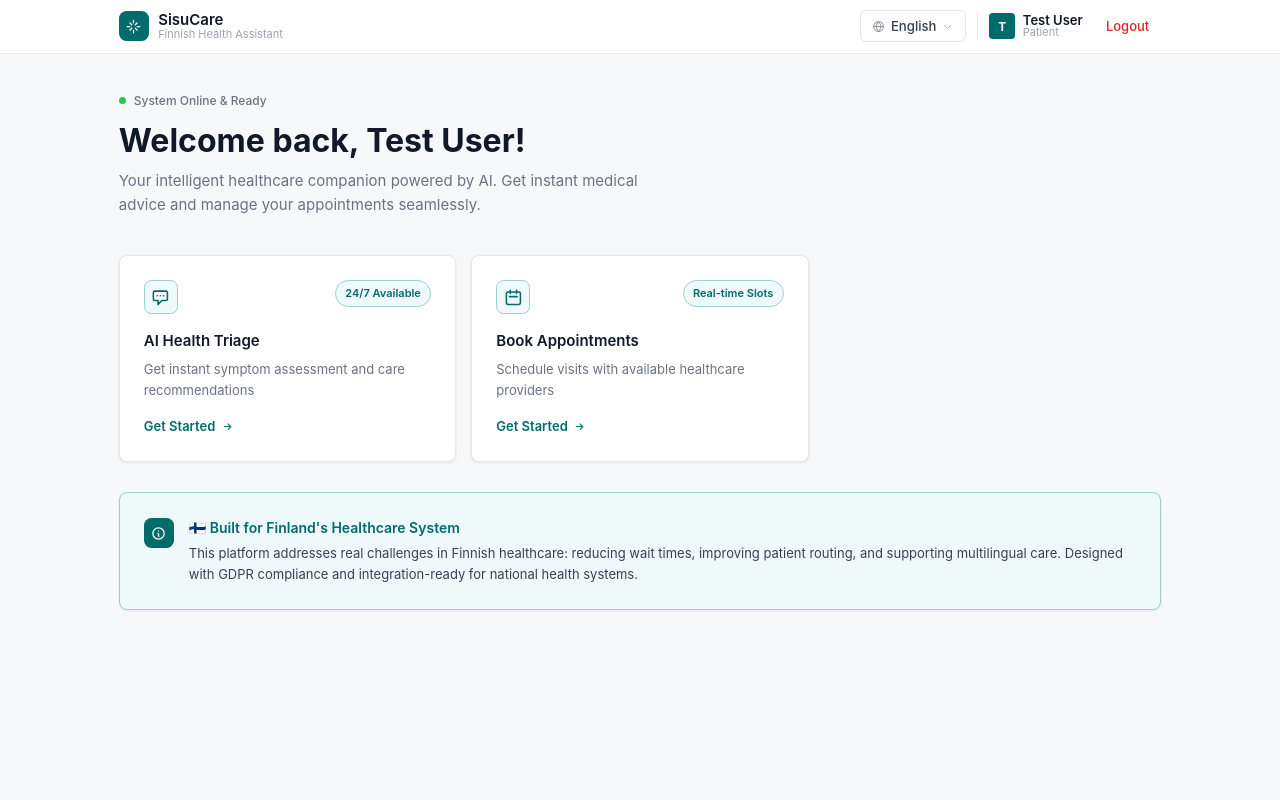
Scenario: Home page › updates hero copy when switching to Swedish
The image size is (1280, 800).
Click the button with aria-label "Language" at (913, 26), box [860,10,966,42]
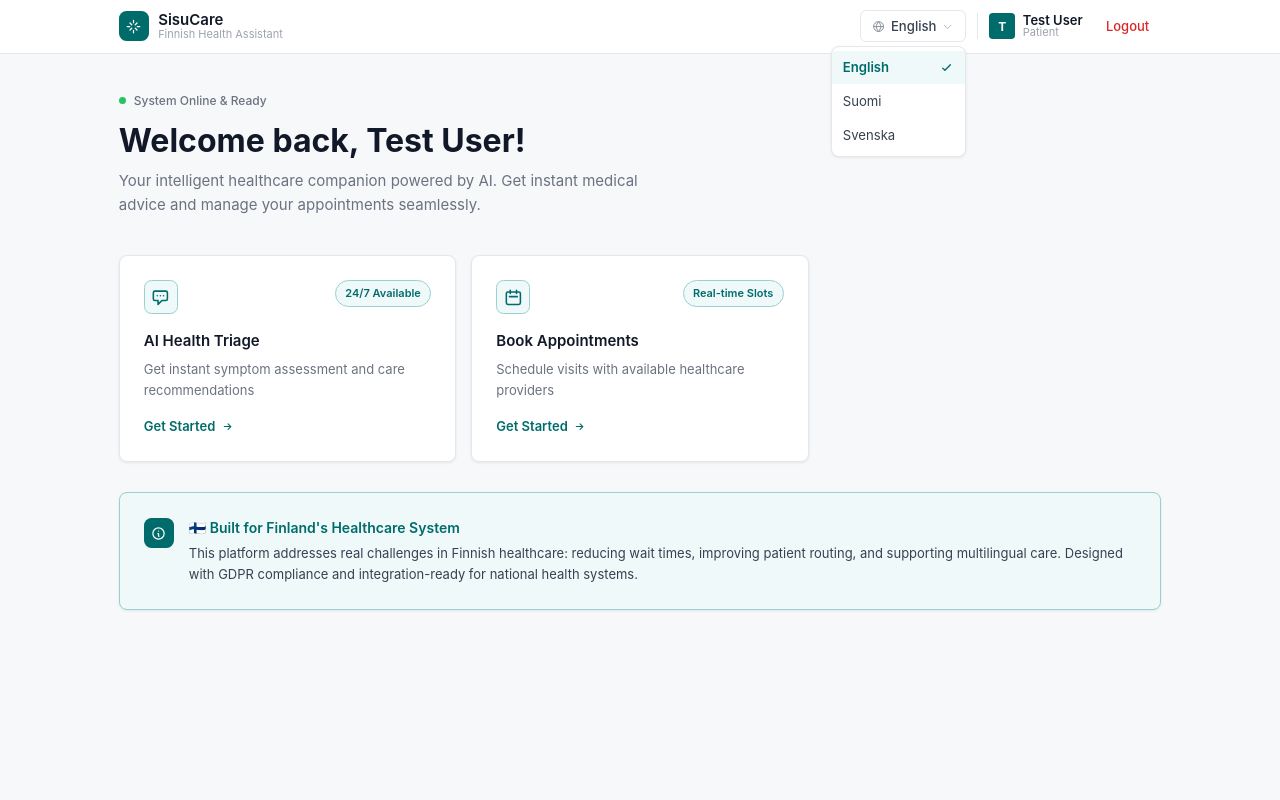
Click the button "Svenska" at (898, 135), box [832,118,965,152]
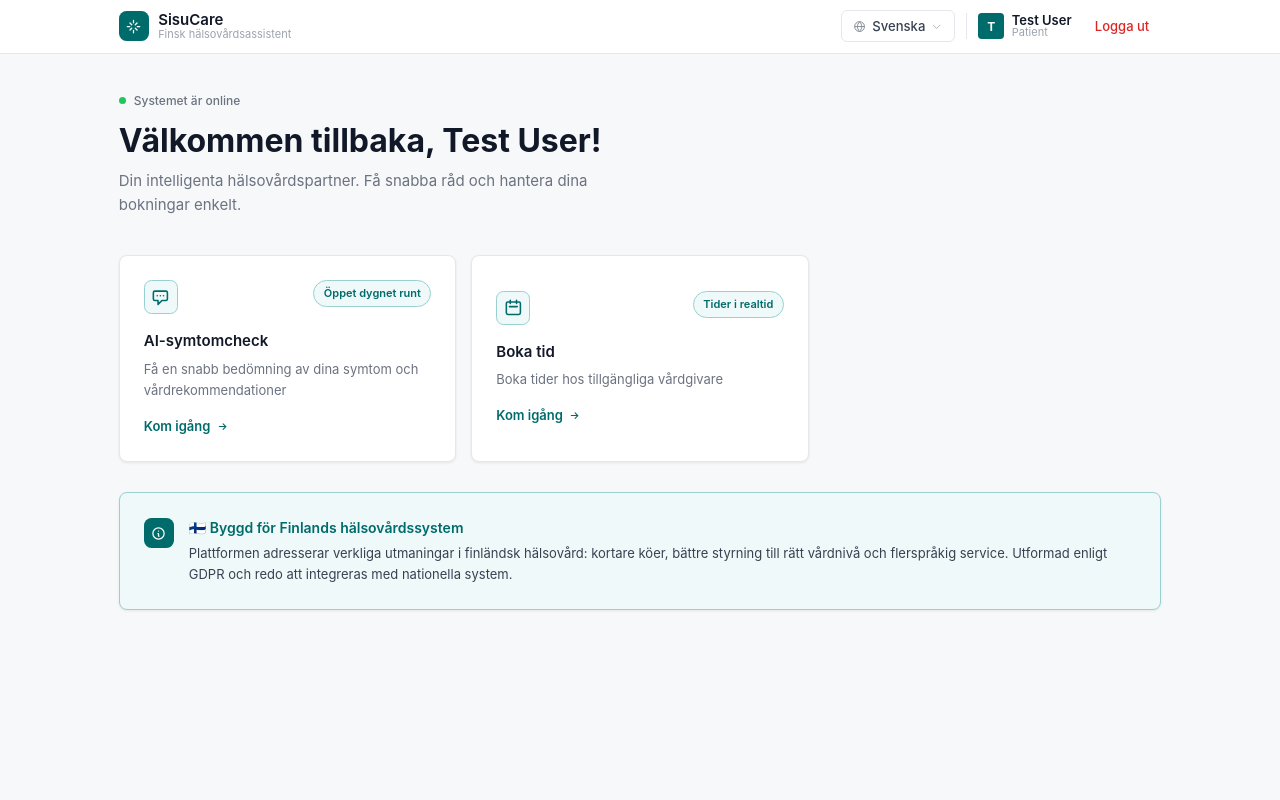
Check: the heading "Välkommen tillbaka, Test User!" is shown, box [119,121,602,160]
